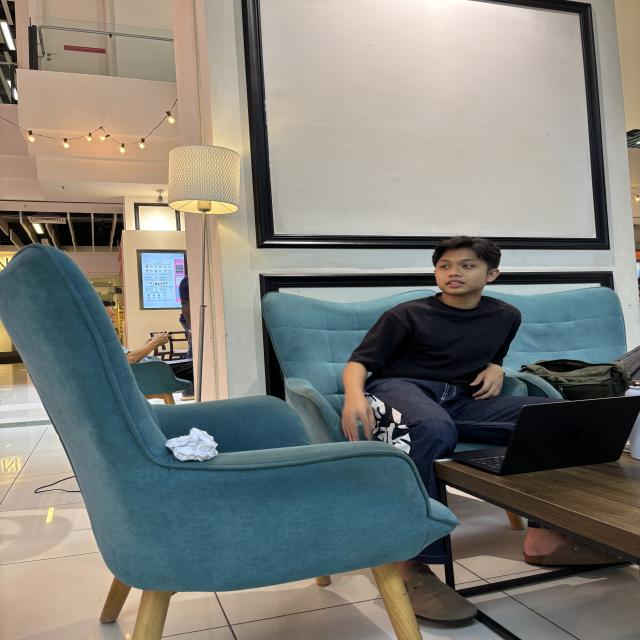crumpled_paper: (163, 426, 221, 464)
